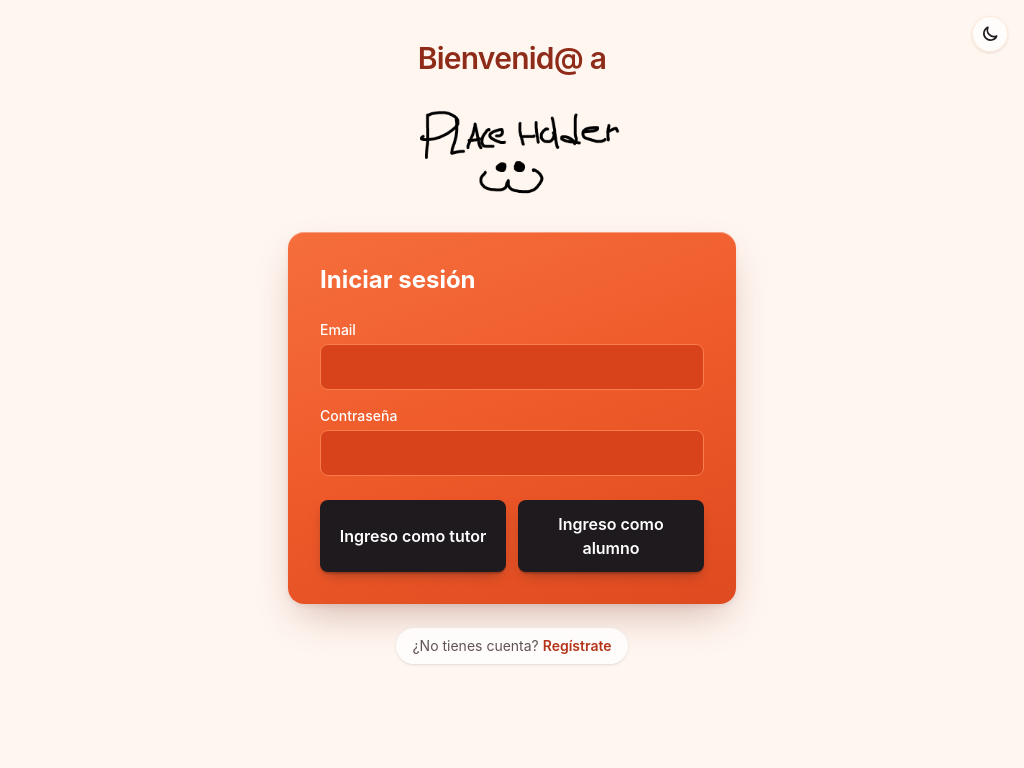
Scenario: Login › email o contraseña incorrectos (UNAUTHENTICATED) muestra un mensaje claro
In the field labelled "Email": {"x": 512, "y": 367} [320,344,704,390], type "x@test.local"
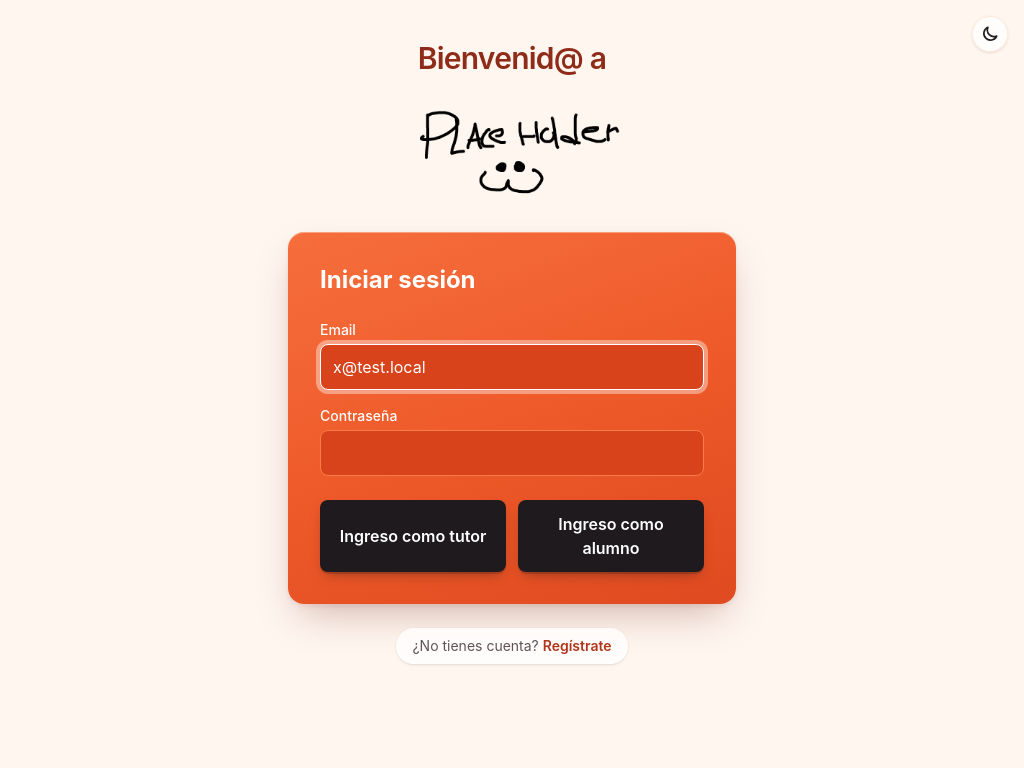
In the password field labelled "Contraseña": {"x": 512, "y": 453} [320,430,704,476], type "mala"
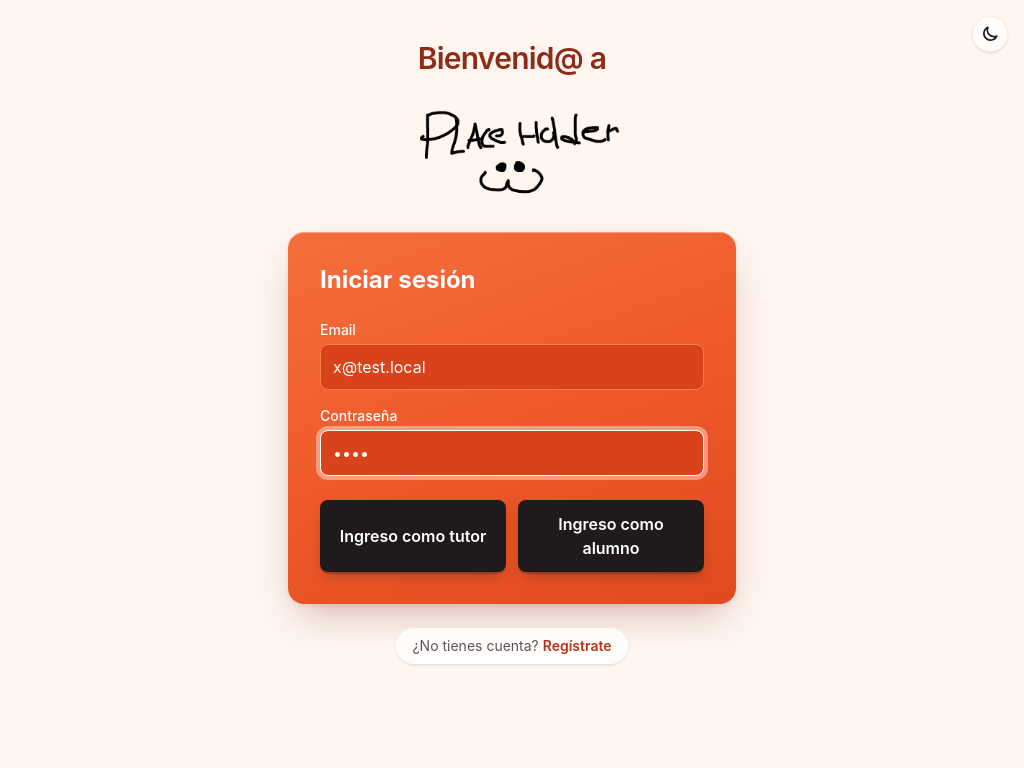
Click the button "Ingreso como alumno": {"x": 611, "y": 536} [518,500,704,572]
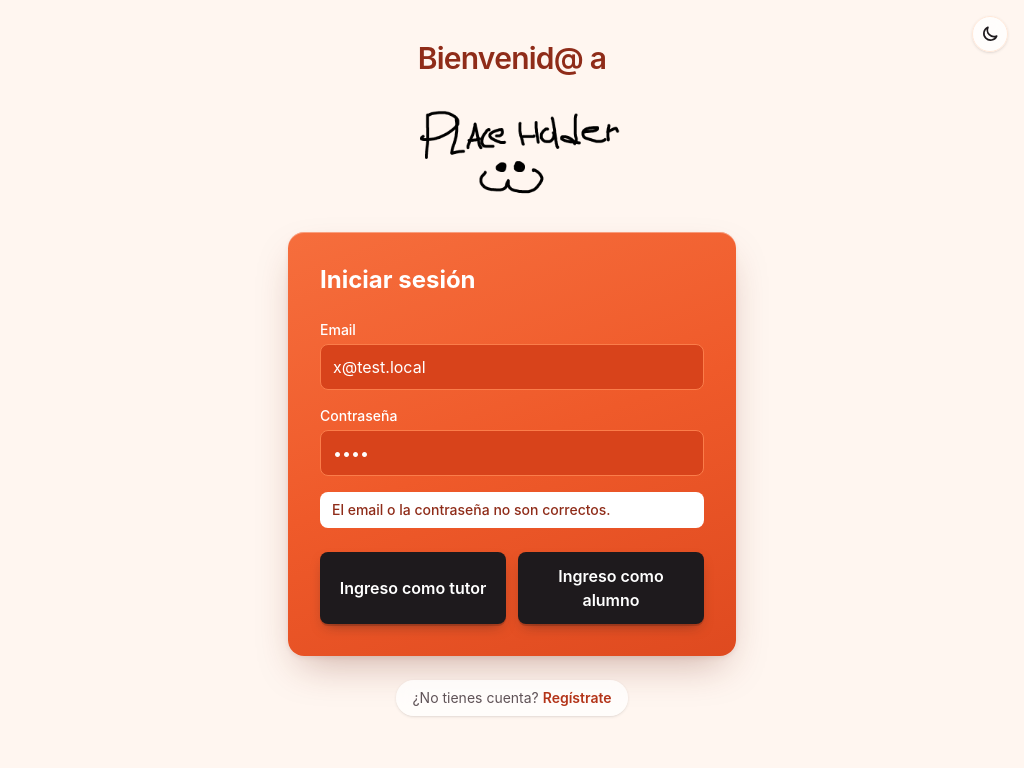
expect the message reads "El email o la contraseña no son correctos.": met, box [332,501,611,518]
